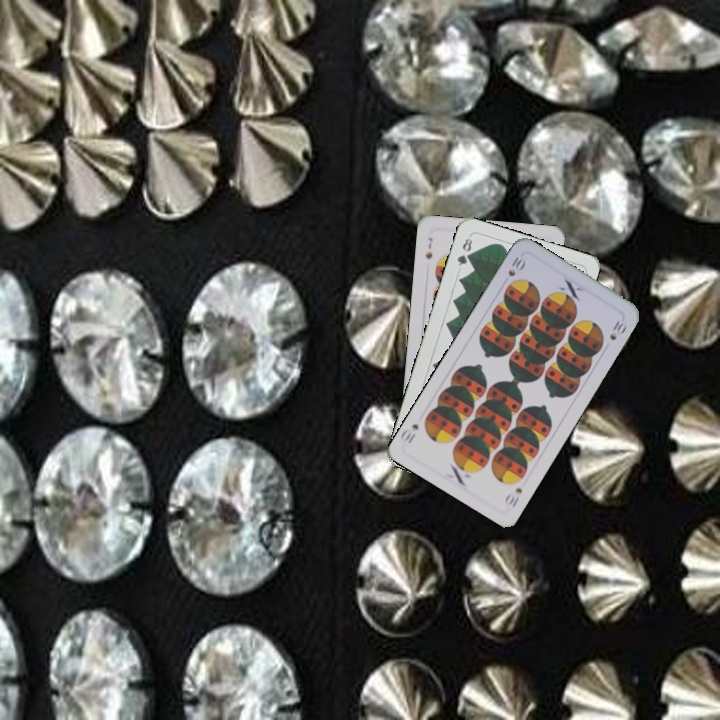G8: (453, 234, 475, 268)
S10: (500, 483, 525, 510), (504, 253, 529, 279)
S7: (421, 234, 435, 262)
